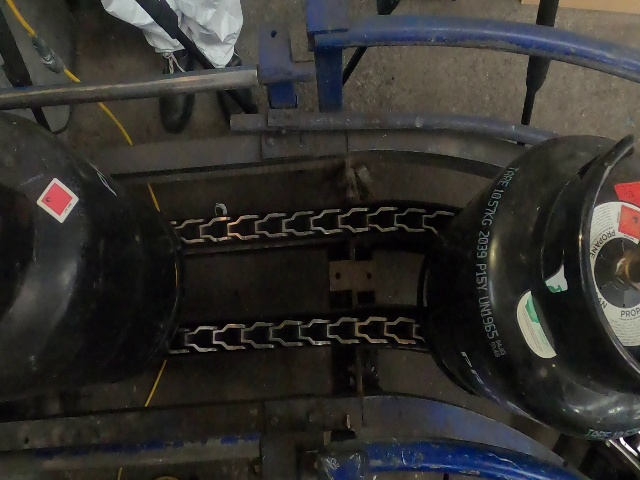gas_bottle: (0, 0, 636, 478)
